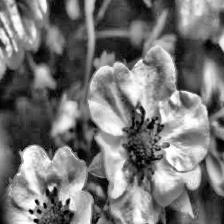Blossom Blight: (23, 185, 78, 224)
